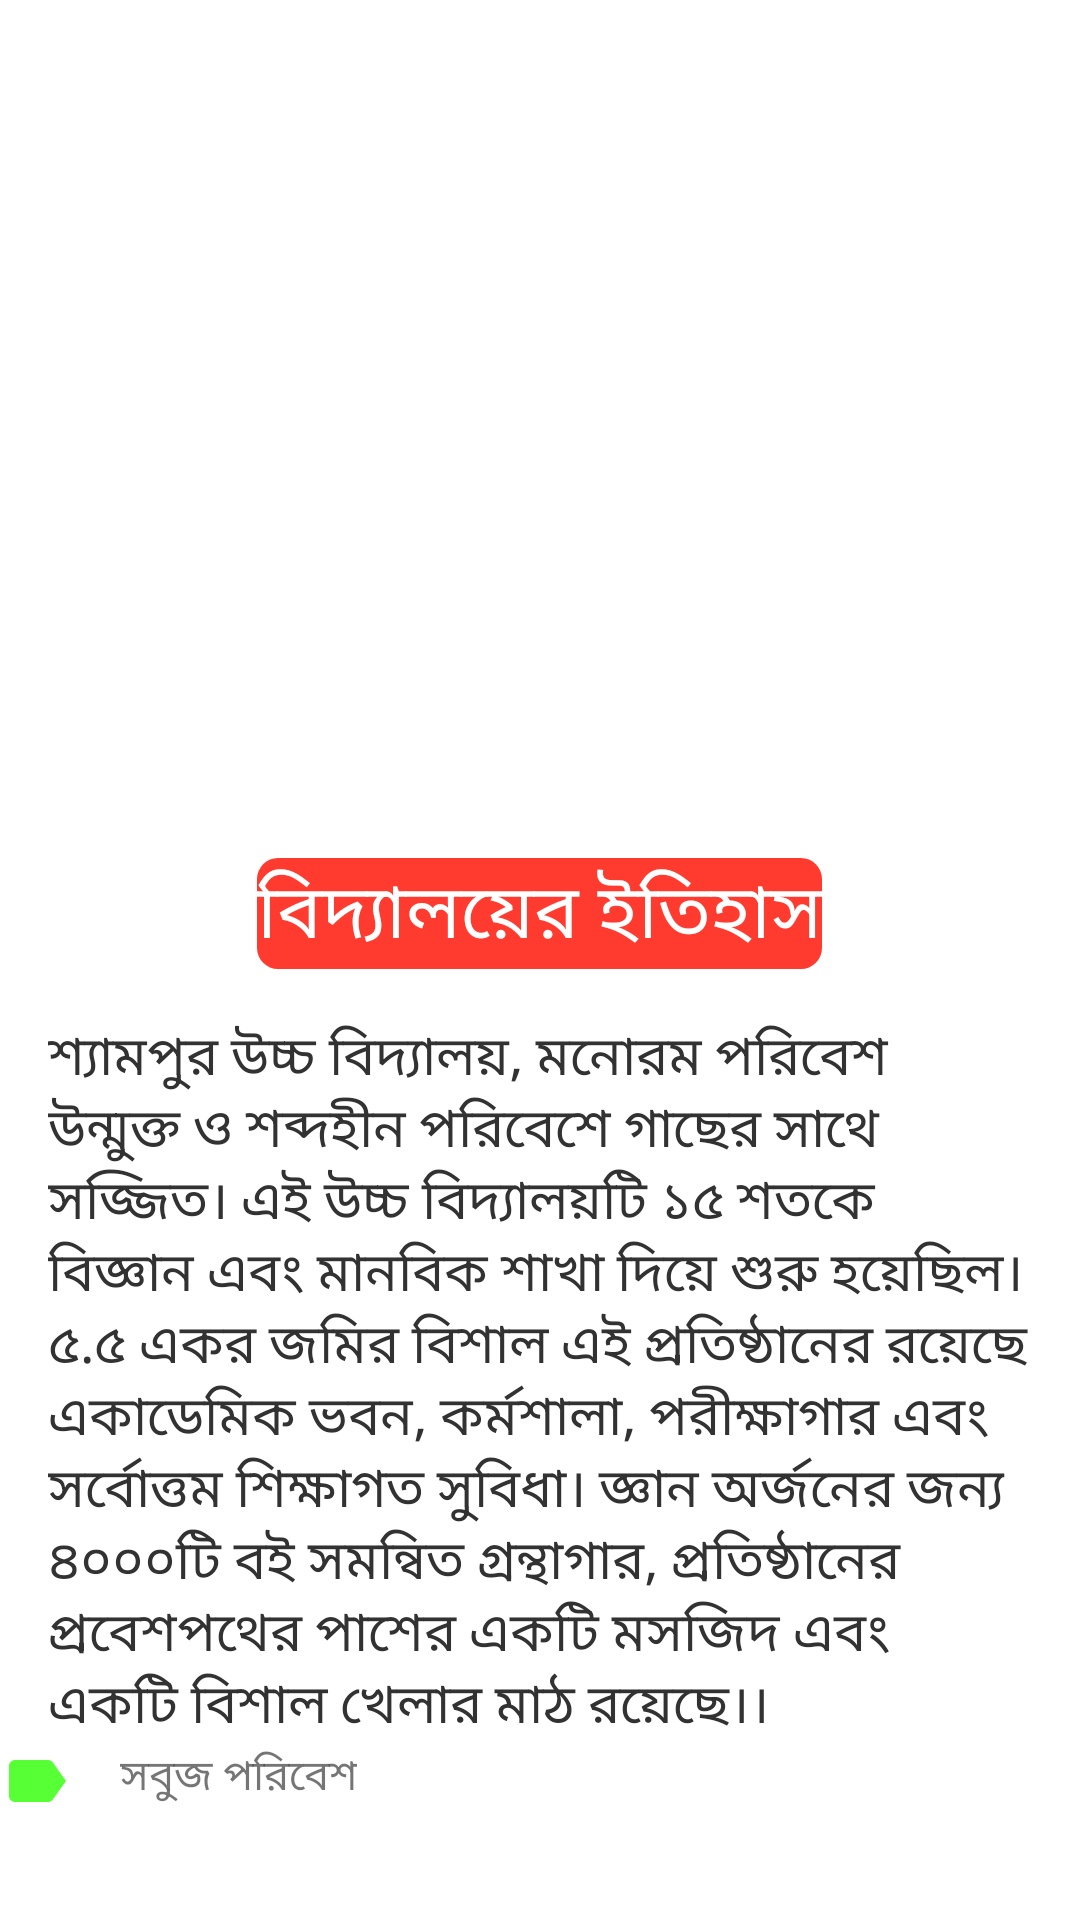

Named icons in this screenshot (1080×1920) and their centers, (x,y):
label: (37,1781)
